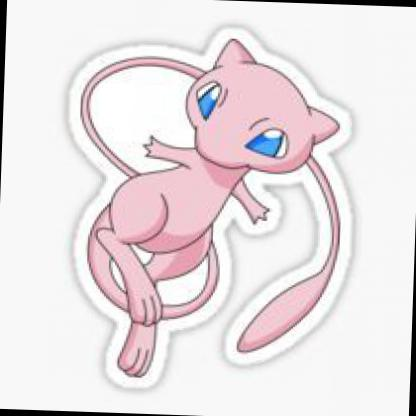Mew: (1, 10, 416, 416)
